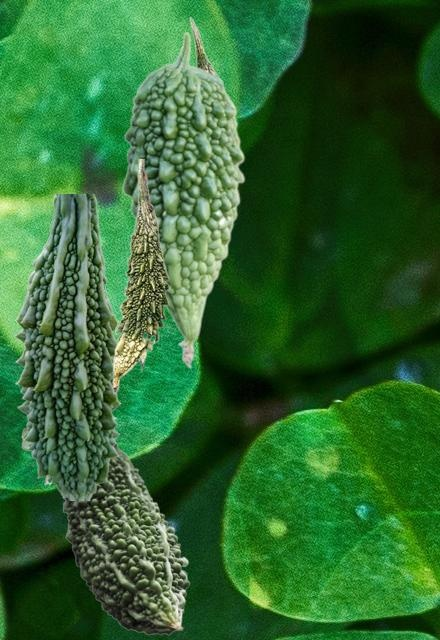ampalaya: (121, 31, 244, 368), (13, 194, 121, 499), (62, 442, 189, 634), (112, 159, 169, 393), (188, 16, 218, 75)
